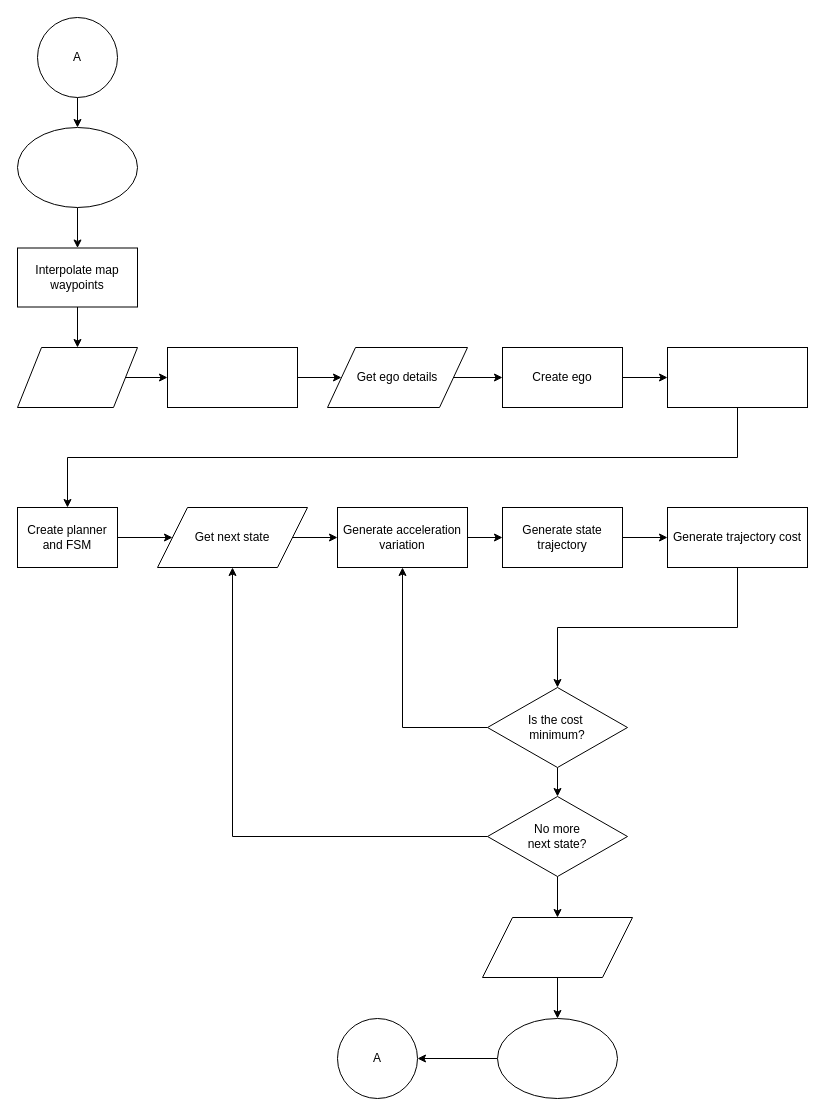
The diagram is 825 pixels wide and 1116 high, and some of its shapes have lost their labels. The shapes that lost their labels are listed below. From the top down, each one's centre as x and y in pixels, then its label:
the point at 77,167: Start
the point at 77,377: Get sensor fusion data
the point at 232,377: Create list of surrounding vehicles
the point at 737,377: Sort surrounding vehicles based on ego coordinate system
the point at 557,947: Return best trajectory
the point at 557,1058: End
